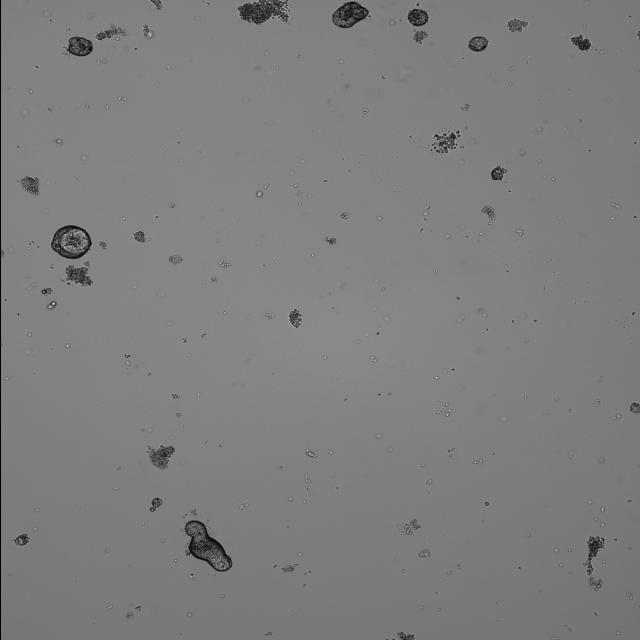alive: (180, 518, 234, 574), (48, 223, 94, 261), (328, 2, 371, 31), (63, 34, 95, 60), (404, 8, 432, 30), (465, 33, 491, 55)
dead: (430, 129, 460, 157), (146, 444, 176, 472), (18, 174, 42, 198), (567, 32, 593, 54), (484, 164, 506, 184), (504, 18, 528, 34), (286, 308, 304, 328), (130, 231, 146, 245)
